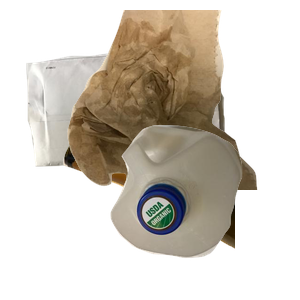glass: (60, 128, 300, 300)
paper: (24, 43, 242, 202)
plastic: (108, 123, 300, 300)
trash: (65, 10, 300, 190)
